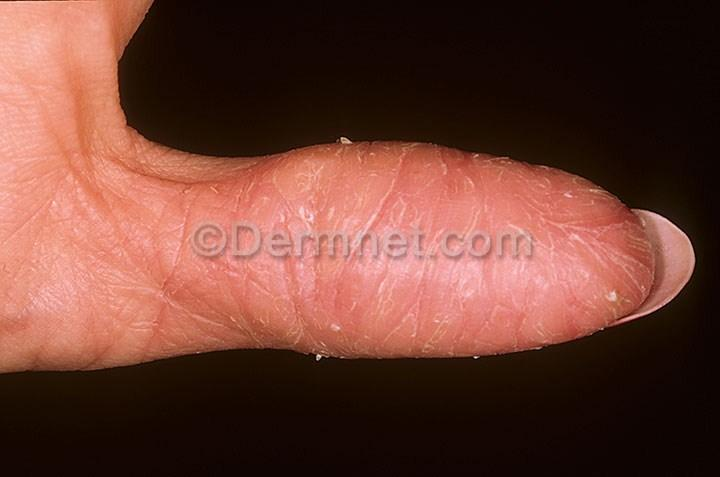Eczema: (252, 144, 534, 231), (310, 264, 536, 366), (539, 166, 653, 339), (192, 253, 323, 353)
